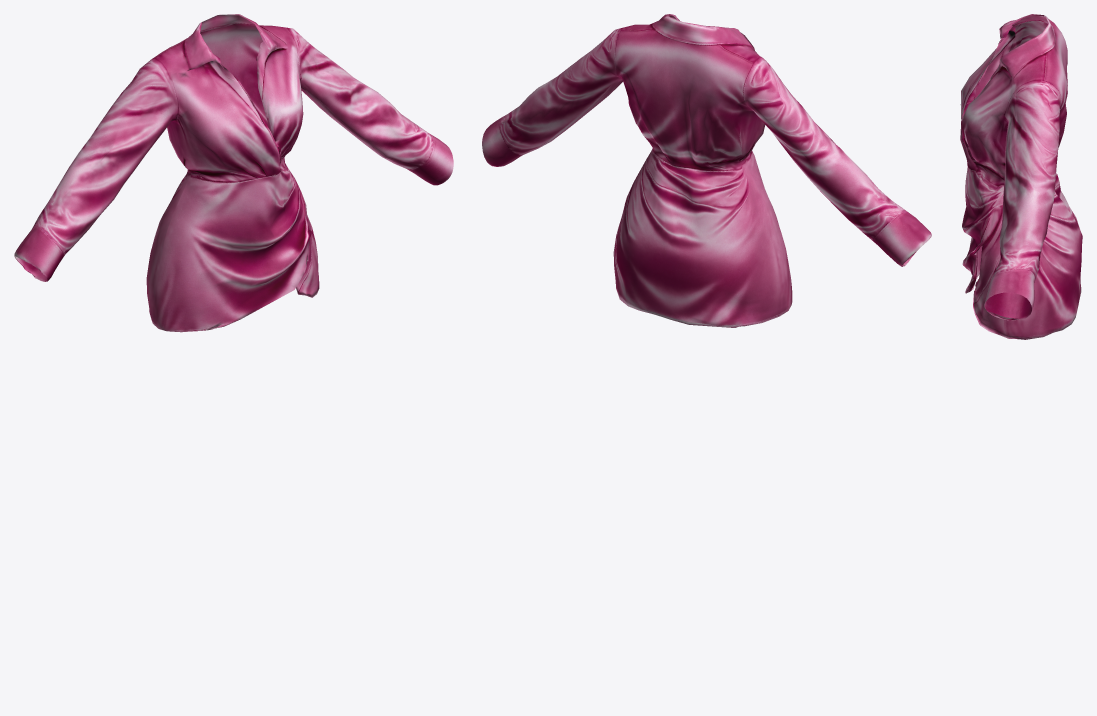
File: zara.glb
The picture shows the model from 3 angles, left to right: view 1: azimuth 30°, elevation 25°; view 2: azimuth 150°, elevation 25°; view 3: azimuth 270°, elevation 25°; orthographic projection. The views are drawn at different scales.
Visible parts, largest first — view 1: Zara_Pink_Dress; view 2: Zara_Pink_Dress; view 3: Zara_Pink_Dress.
Part boxes in pixels (x1,y1,x2,y2): Zara_Pink_Dress: (14, 14, 453, 332); Zara_Pink_Dress: (482, 14, 931, 327); Zara_Pink_Dress: (960, 14, 1082, 339).
Size of the model in its own units: 0.9562 by 1.44 by 0.2367.
Materials: 2 (1 with a texture image).
